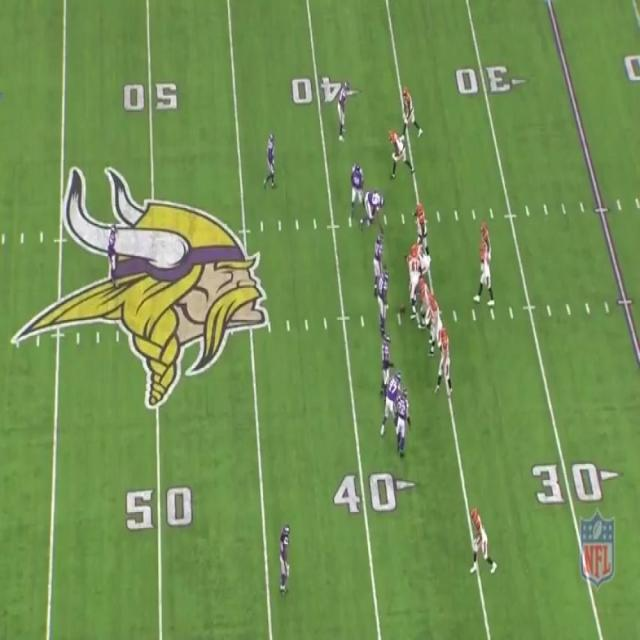center: (405, 242, 423, 312)
db: (277, 524, 289, 595), (105, 224, 118, 287), (397, 390, 409, 454), (338, 80, 347, 138)
lb: (267, 134, 278, 186), (374, 233, 382, 274), (382, 336, 390, 376)
qb: (474, 240, 495, 305)
